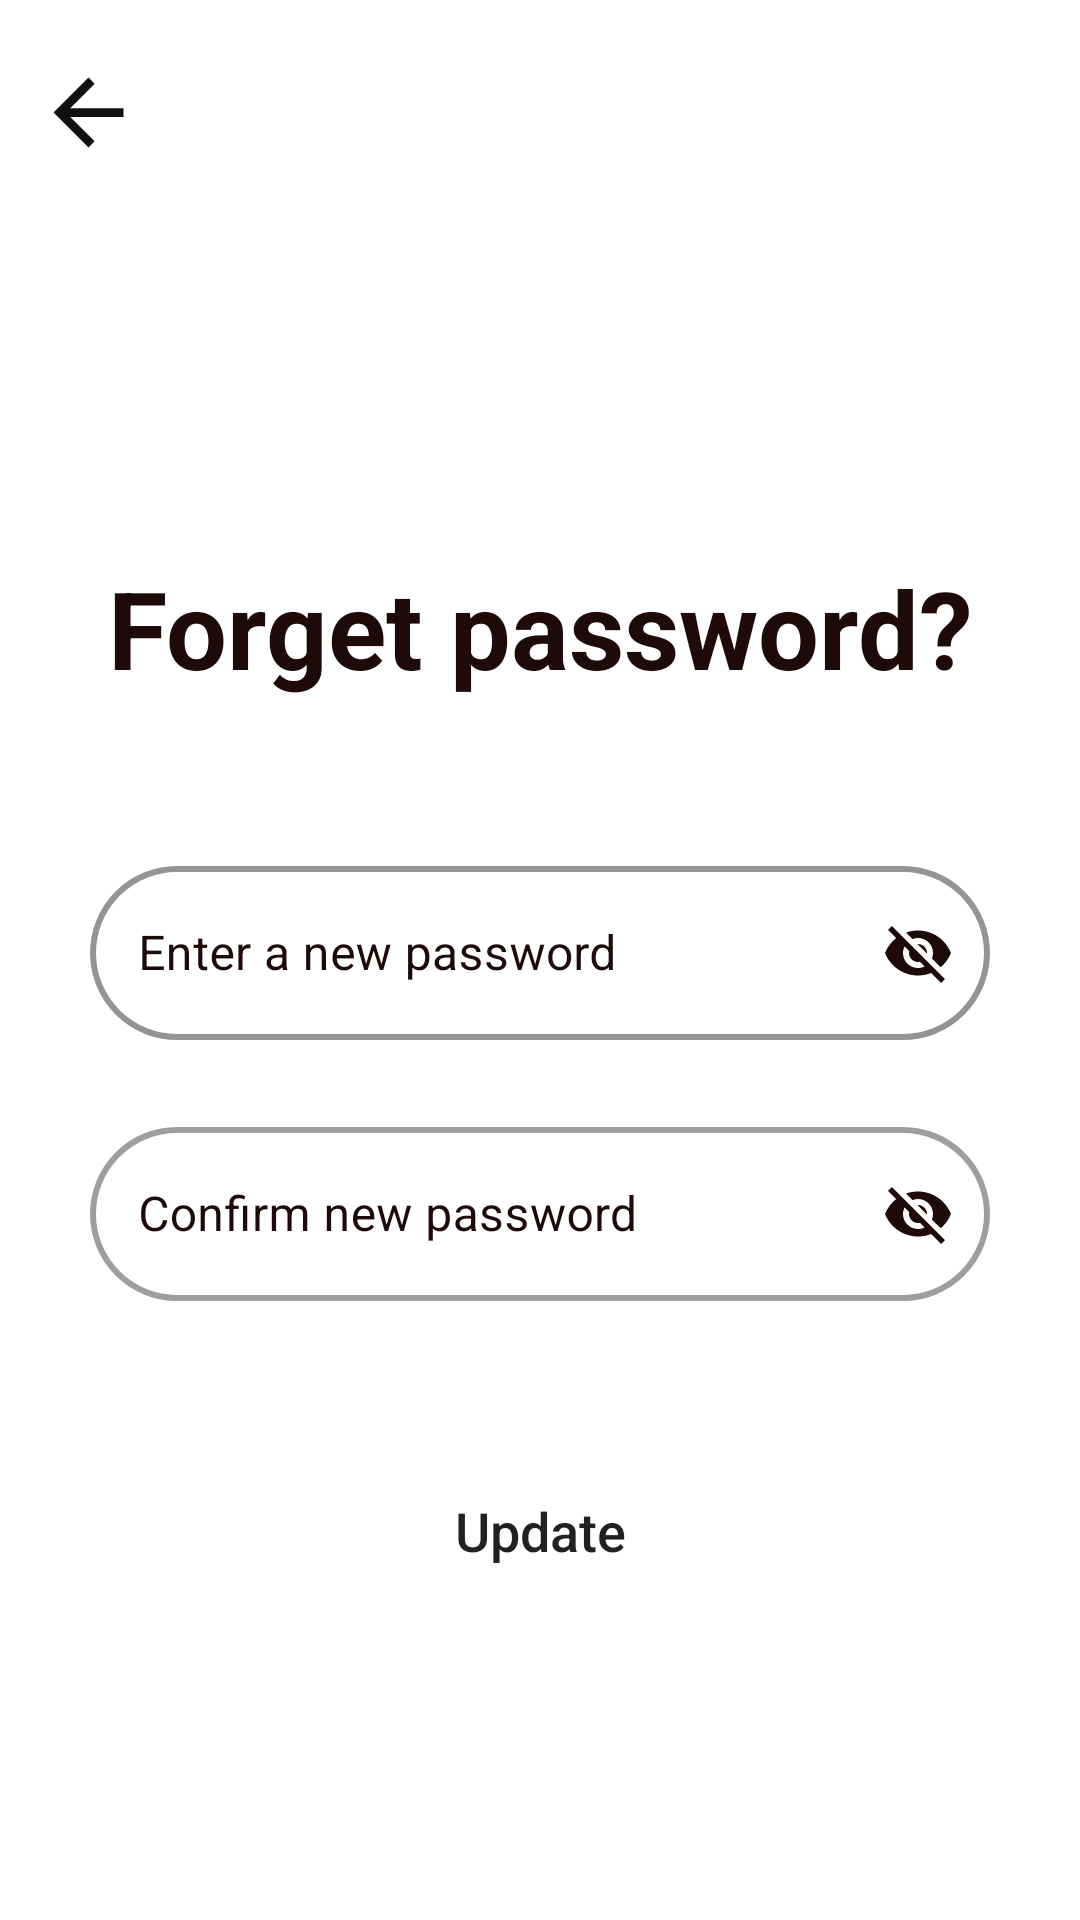

Point at icon controls on the screen. Image size 1080*1920, points as (x=x, y=y).
arrow back: (x=88, y=112)
